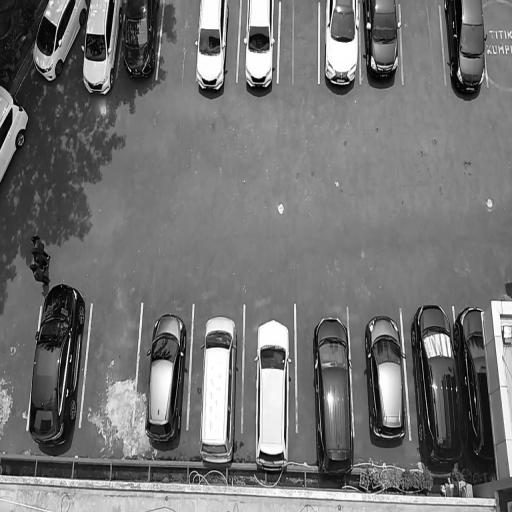Car: (410, 302, 464, 480), (28, 283, 81, 452), (311, 311, 356, 482), (456, 302, 496, 484), (252, 314, 295, 474), (198, 314, 241, 470), (363, 311, 409, 453), (144, 313, 186, 446), (30, 0, 85, 85), (443, 0, 489, 100), (81, 0, 120, 100), (323, 0, 361, 99), (363, 0, 403, 93), (0, 76, 31, 189), (242, 0, 275, 102), (120, 0, 158, 88), (195, 0, 228, 99)
Space Available: (92, 297, 134, 441), (282, 0, 317, 89), (162, 0, 196, 91), (404, 0, 439, 88), (490, 1, 512, 84)
